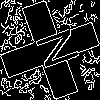N: (25, 25, 81, 75)
